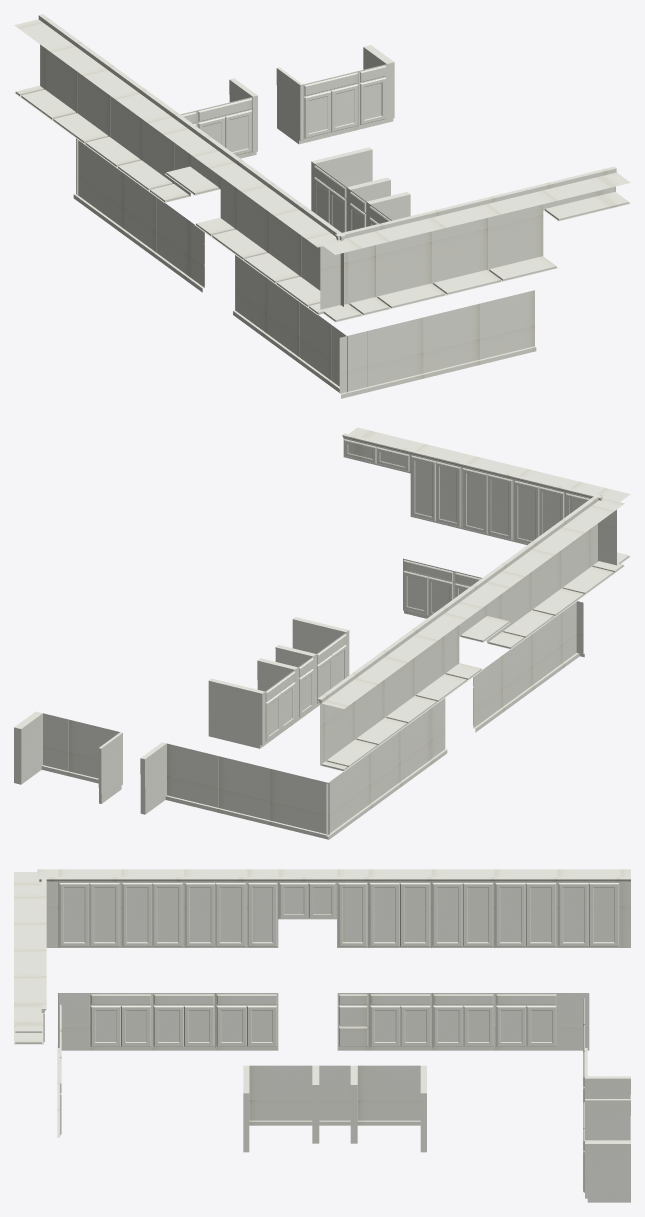
Rendered from cabinets_linen.glb.
3 renders of one model, top to bottom at view 1: azimuth 30°, elevation 25°; view 2: azimuth 150°, elevation 25°; view 3: azimuth 270°, elevation 25°, orthographic. The views are drawn at different scales.
Parts seen in each view (by area): view 1: Kitchen Cabinets Linen; view 2: Kitchen Cabinets Linen; view 3: Kitchen Cabinets Linen.
Part boxes in pixels (x1,y1,x2,y2): Kitchen Cabinets Linen: (14, 14, 630, 398); Kitchen Cabinets Linen: (14, 427, 630, 839); Kitchen Cabinets Linen: (14, 869, 630, 1202).
Bounding box in the file's own units: 6.4 × 2.93 × 9.8.
Materials: 1 (1 with a texture image).
